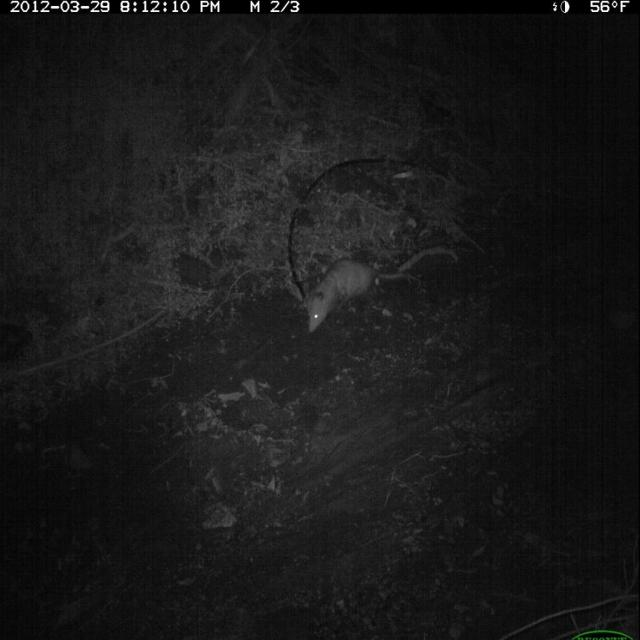opossum: (297, 236, 421, 336)
